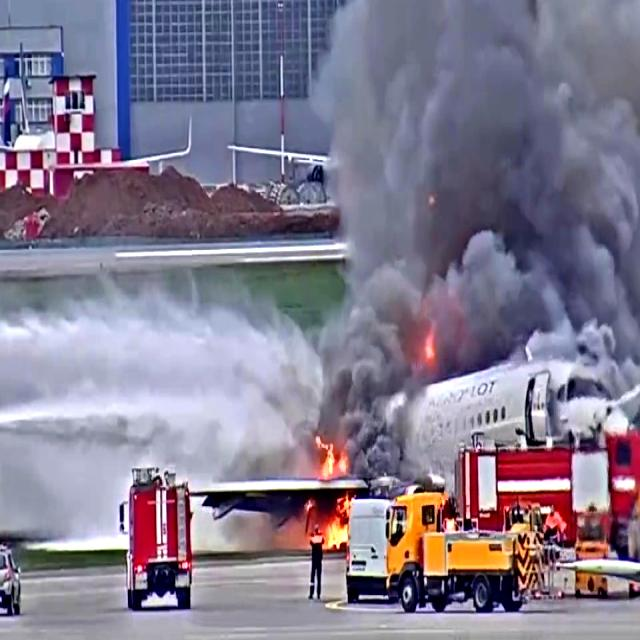smoke: (438, 0, 640, 320)
